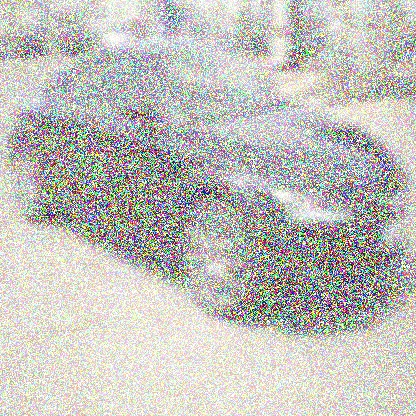Vehicle: (13, 38, 411, 320)
